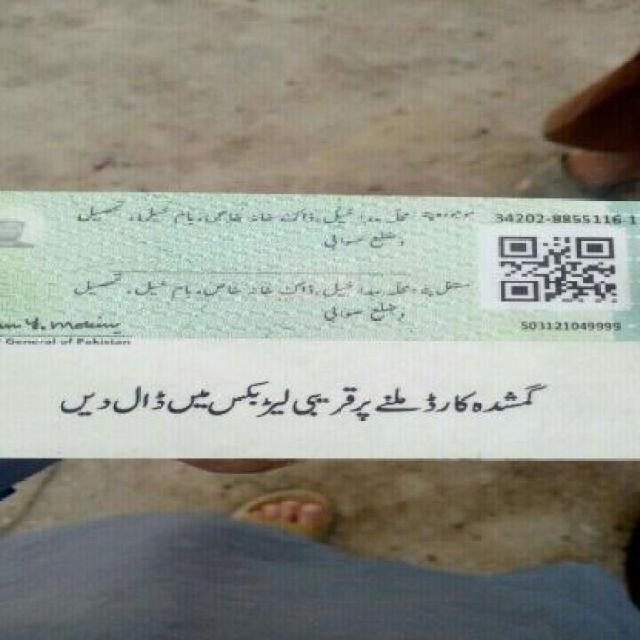Back: (1, 184, 640, 467)
